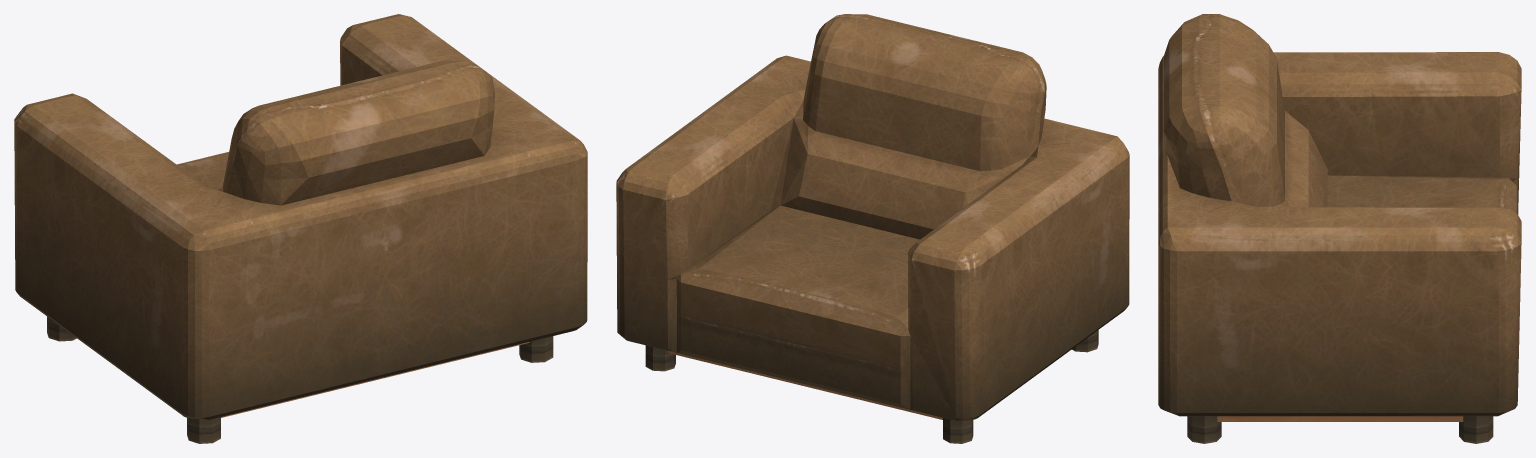
File: P_Sofa_009_S1_M03.obj
3 views of the same model, side by side, from view 1: azimuth 30°, elevation 25°; view 2: azimuth 150°, elevation 25°; view 3: azimuth 270°, elevation 25° (orthographic). The views are drawn at different scales.
Size of the model in its own units: 1.23 by 0.8901 by 0.9877.
Materials: 1 (1 with a texture image).
